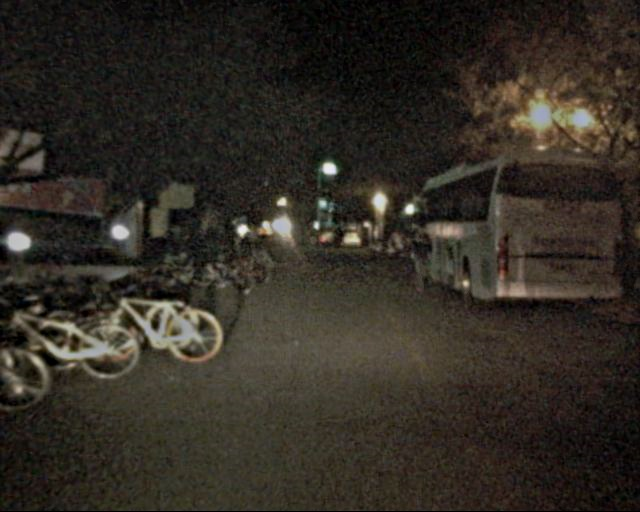person: (408, 221, 440, 299), (241, 217, 262, 264), (336, 228, 346, 252)
